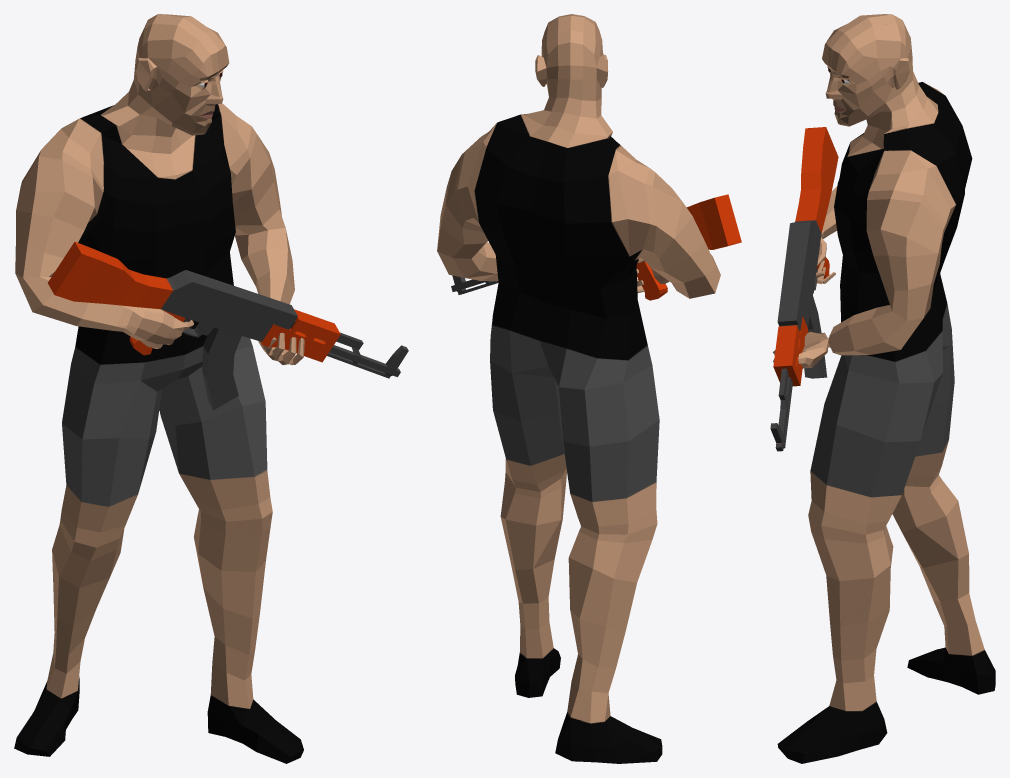
File: PlayerIdle(169).obj
3 renders of one model, left to right at view 1: azimuth 30°, elevation 25°; view 2: azimuth 150°, elevation 25°; view 3: azimuth 270°, elevation 25°, orthographic. The views are drawn at different scales.
Parts seen in each view (by area): view 1: Plane002, Object001; view 2: Plane002, Object001; view 3: Plane002, Object001.
Boxes of the visible parts, left/top/right/bottom form: Plane002: left=14, top=14, right=322, bottom=763; Object001: left=48, top=242, right=408, bottom=409; Plane002: left=437, top=14, right=720, bottom=763; Object001: left=451, top=194, right=741, bottom=300; Plane002: left=773, top=14, right=995, bottom=763; Object001: left=770, top=127, right=838, bottom=451.
Bounding box in the file's own units: 860 × 1798 × 520.
